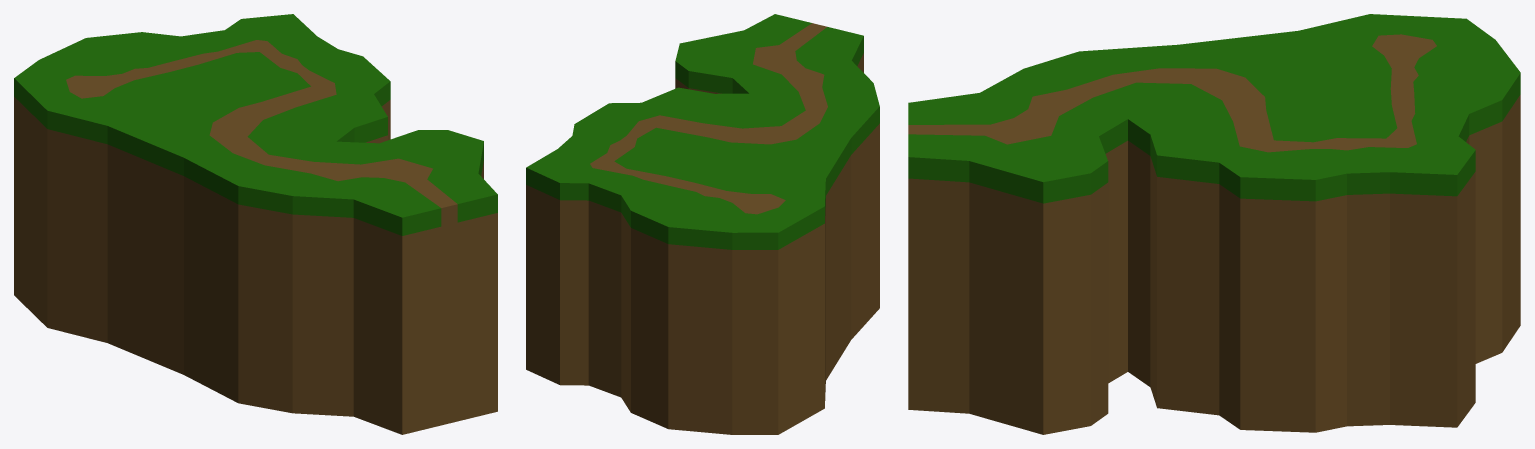
File: terrain4.fbx
3 renders of one model, left to right at view 1: azimuth 30°, elevation 25°; view 2: azimuth 150°, elevation 25°; view 3: azimuth 270°, elevation 25°, orthographic. The views are drawn at different scales.
Visible parts, largest first — view 1: Cube; view 2: Cube; view 3: Cube.
Part boxes in pixels (x1,y1,x2,y2): Cube: [14, 14, 497, 434]; Cube: [526, 14, 879, 434]; Cube: [908, 14, 1520, 434].
Bounding box in the file's own units: 714 × 500 × 1098.
